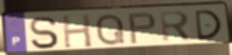D: (193, 9, 224, 42)
H: (61, 13, 94, 50)
P: (127, 11, 159, 46)
Q: (95, 13, 127, 47)
R: (158, 9, 194, 44)
S: (28, 15, 60, 50)
